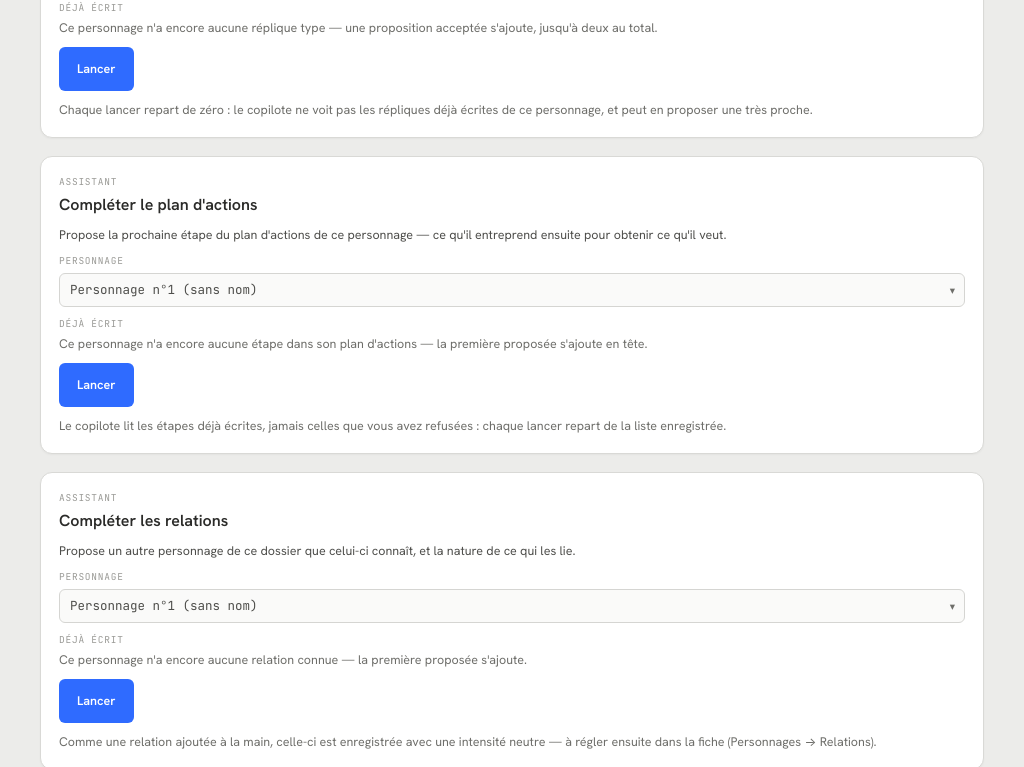
Test: planActions - plan_actions ne recoit QUE etape et action (KR-221) › la nouvelle entree ne porte que les deux cles etape et action
(page scrolled)
Step 1. Click the button "Lancer" below "Compléter le plan d'actions" → [96, 385], box [59,363,134,407]
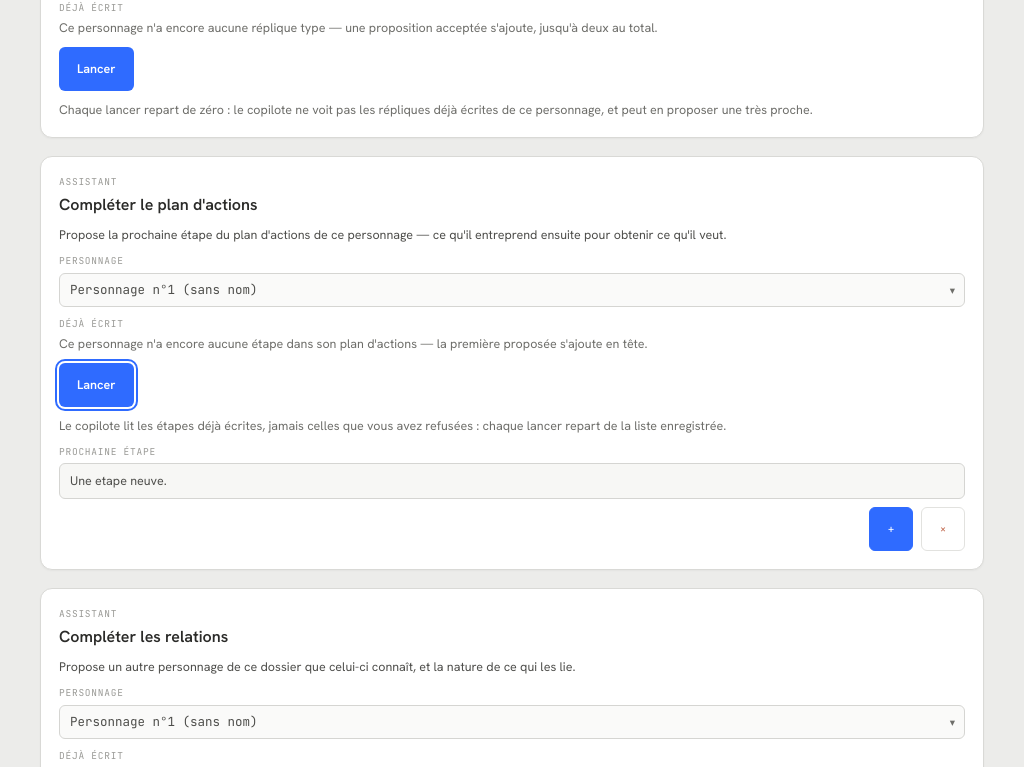
expect the button named "Accepter la proposition" is shown: met
Step 2. Click the button named "Accepter la proposition" → [891, 529], box [869,507,913,551]
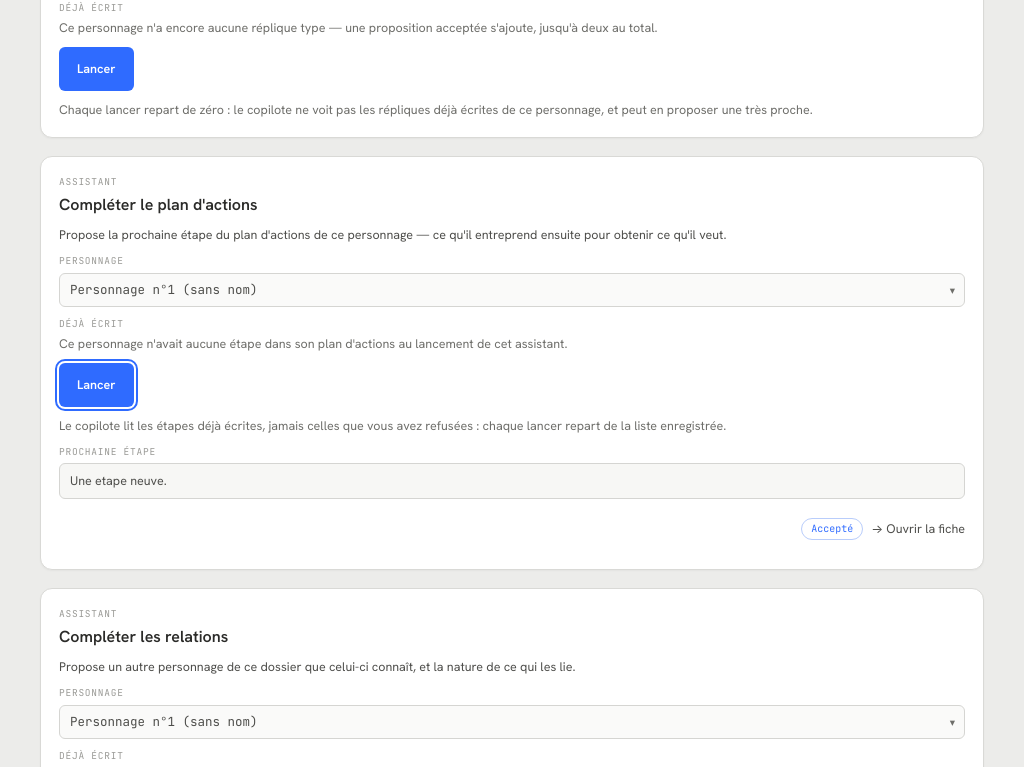
expect the text "Accepté" is shown: met, box [801,518,863,540]
